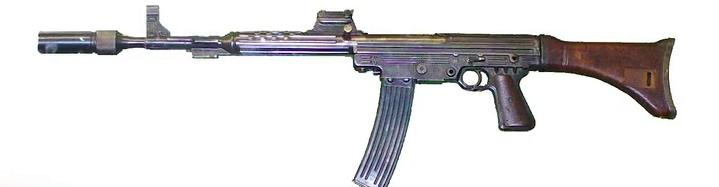gun: (1, 0, 719, 187)
